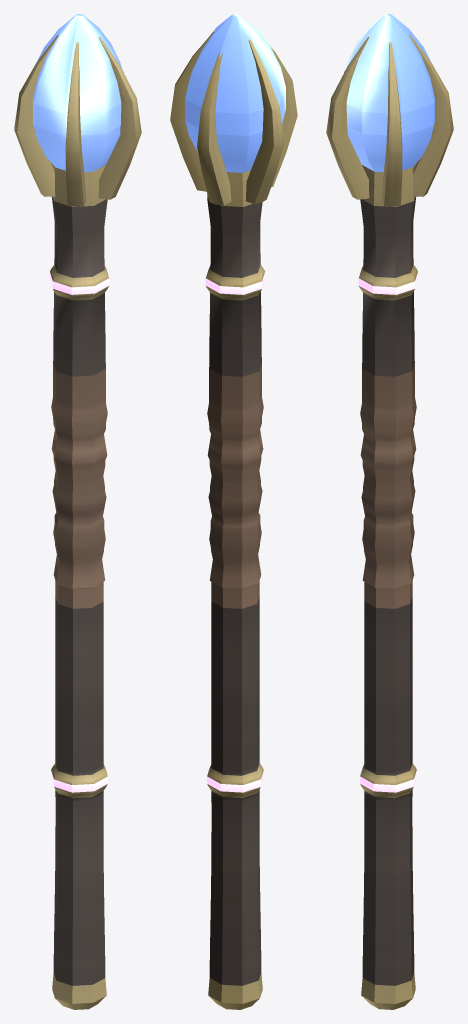
The model's file is runewarden-staff.glb.
3 views of the same model, side by side, from view 1: azimuth 30°, elevation 25°; view 2: azimuth 150°, elevation 25°; view 3: azimuth 330°, elevation 25° (orthographic).
Parts seen in each view (by area): view 1: WPN_07_Staff_Runewarden__HAFT.001, WPN_07_Staff_Runewarden__STONE.001, WPN_07_Staff_Runewarden__CLAW.001; view 2: WPN_07_Staff_Runewarden__HAFT.001, WPN_07_Staff_Runewarden__STONE.001, WPN_07_Staff_Runewarden__CLAW.001; view 3: WPN_07_Staff_Runewarden__HAFT.001, WPN_07_Staff_Runewarden__STONE.001, WPN_07_Staff_Runewarden__CLAW.001.
Part boxes in pixels (x1,y1,x2,y2): WPN_07_Staff_Runewarden__HAFT.001: [49, 164, 109, 1009]; WPN_07_Staff_Runewarden__STONE.001: [33, 14, 122, 172]; WPN_07_Staff_Runewarden__CLAW.001: [14, 34, 141, 206]; WPN_07_Staff_Runewarden__HAFT.001: [205, 170, 265, 1009]; WPN_07_Staff_Runewarden__STONE.001: [185, 14, 285, 172]; WPN_07_Staff_Runewarden__CLAW.001: [170, 30, 297, 205]; WPN_07_Staff_Runewarden__HAFT.001: [358, 164, 418, 1009]; WPN_07_Staff_Runewarden__STONE.001: [345, 14, 434, 172]; WPN_07_Staff_Runewarden__CLAW.001: [326, 34, 453, 206].
Size of the model in its own units: 0.4656 by 3.96 by 0.4488.
Materials: 1 (1 with a texture image).
